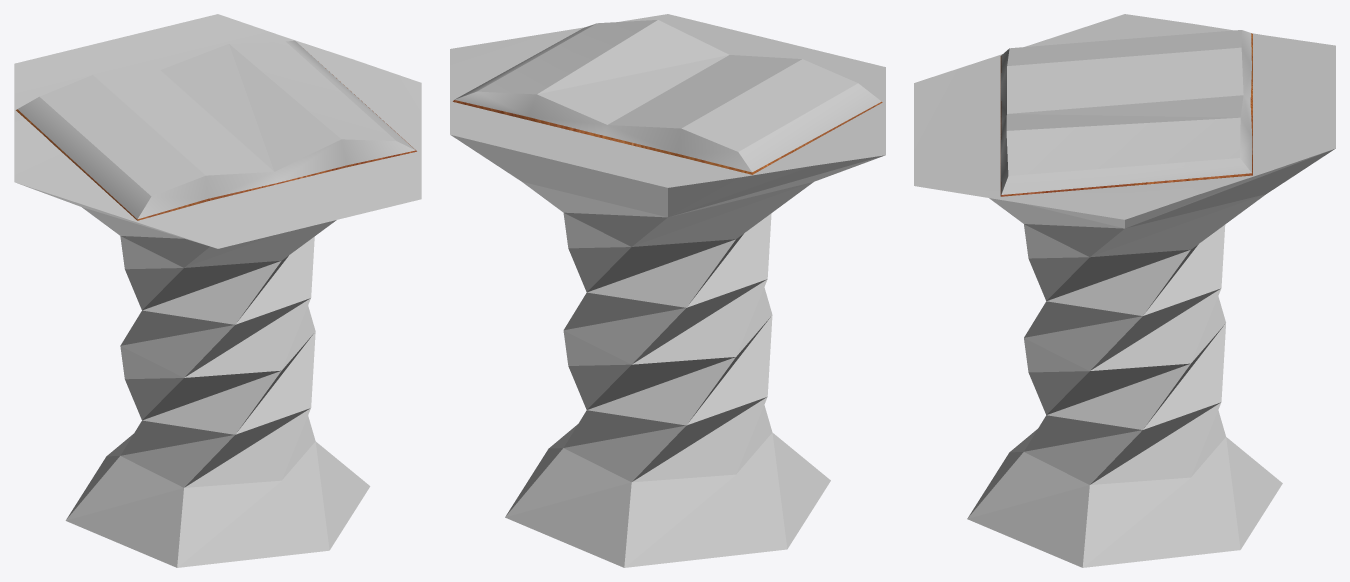
File: pedestal.FBX
3 renders of one model, left to right at view 1: azimuth 30°, elevation 25°; view 2: azimuth 150°, elevation 25°; view 3: azimuth 270°, elevation 25°, orthographic. The views are drawn at different scales.
Visible parts, largest first — view 1: Box001; view 2: Box001; view 3: Box001.
Boxes of the visible parts, <box> form: Box001: <box>14,14,421,567</box>; Box001: <box>450,14,885,567</box>; Box001: <box>914,14,1335,567</box>.
Size of the model in its own units: 74.33 by 70.51 by 64.37.
